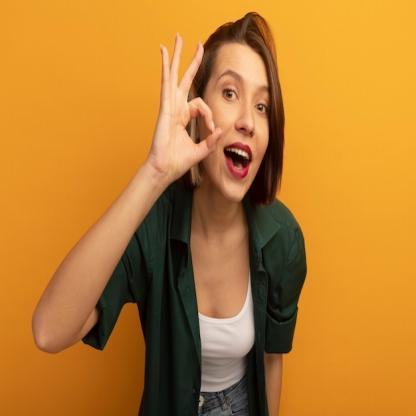ok: (152, 30, 224, 178)
